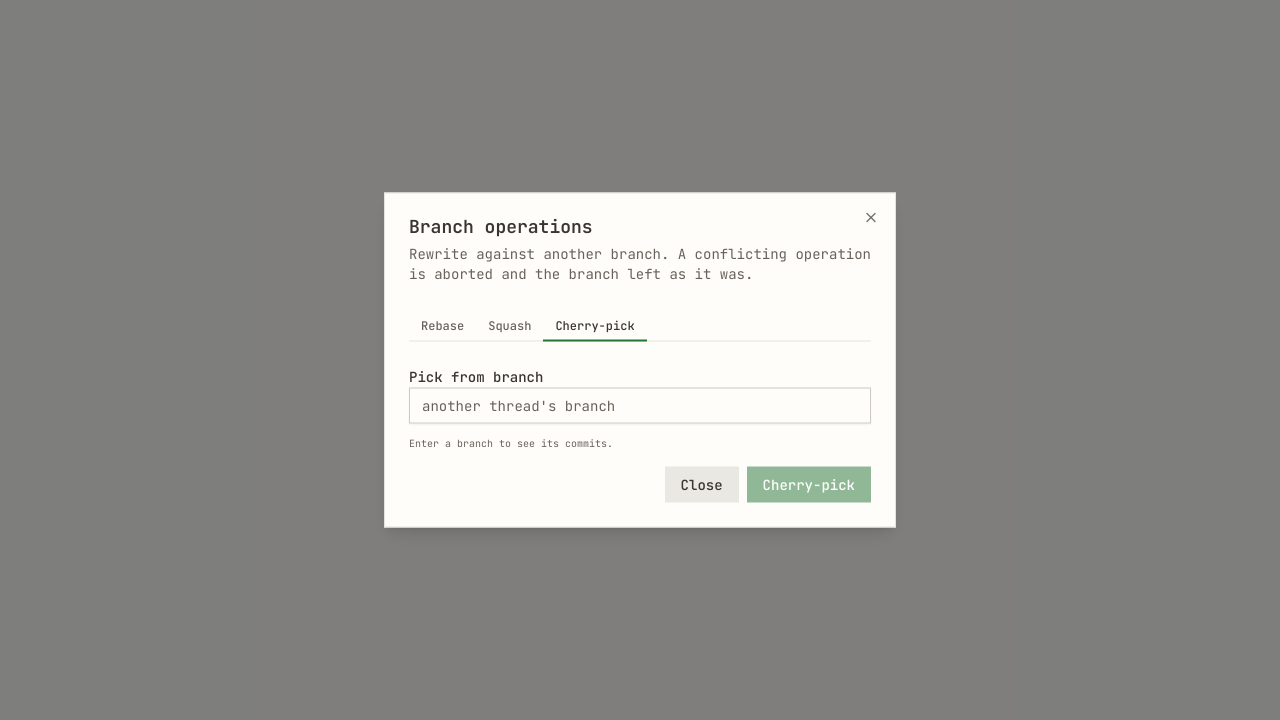
Test: GitOpsDialog cherry-pick › keeps the list for the latest branch typed when an older reply lands last
Type "fe" into the field labelled "Pick from branch" at (640, 406), box [409,388,871,424]
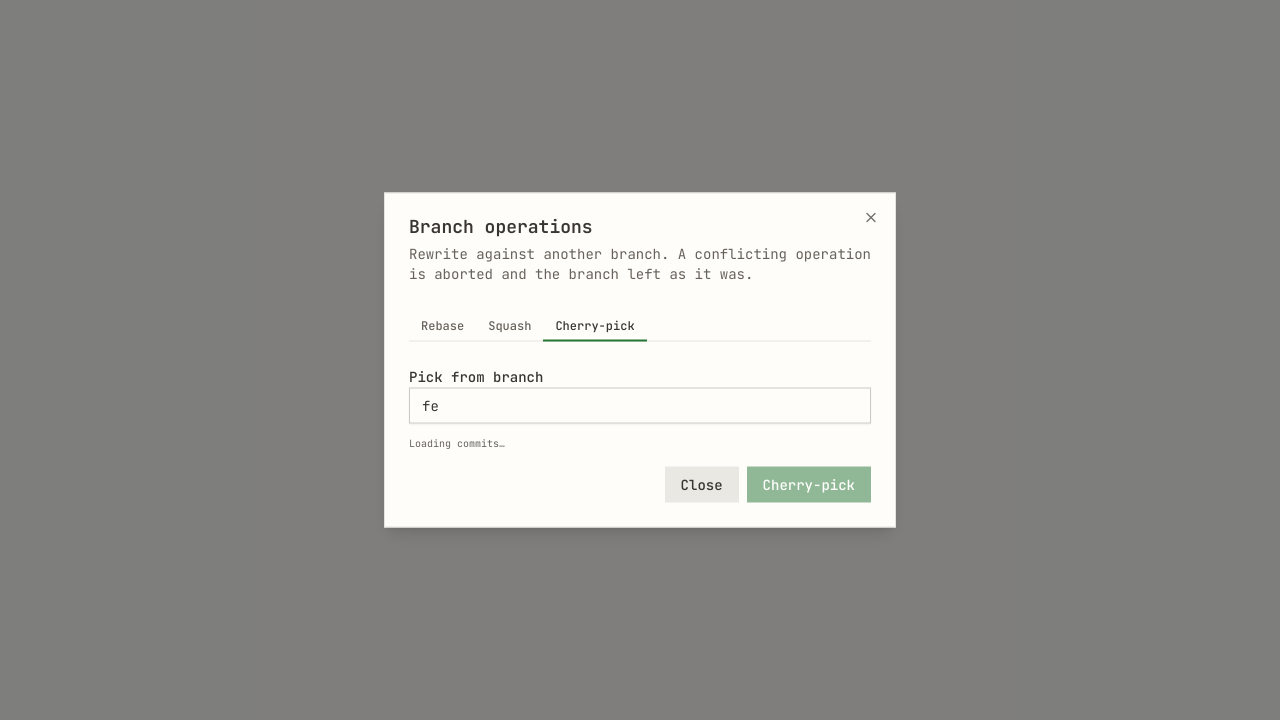
Replace the text in the field labelled "Pick from branch" with "feature" at (640, 406), box [409,388,871,424]
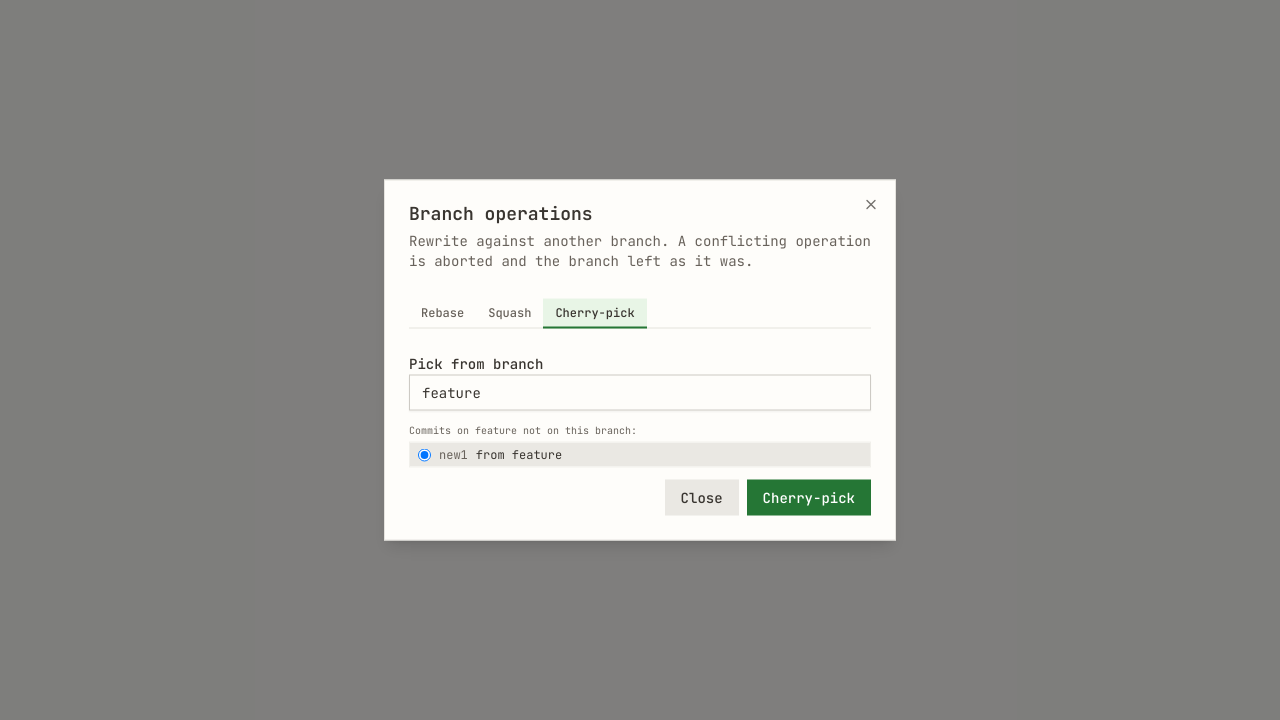
Result: the text "Loading commits…" is gone
Result: the text "from feature" is shown at [476,446,562,462]
